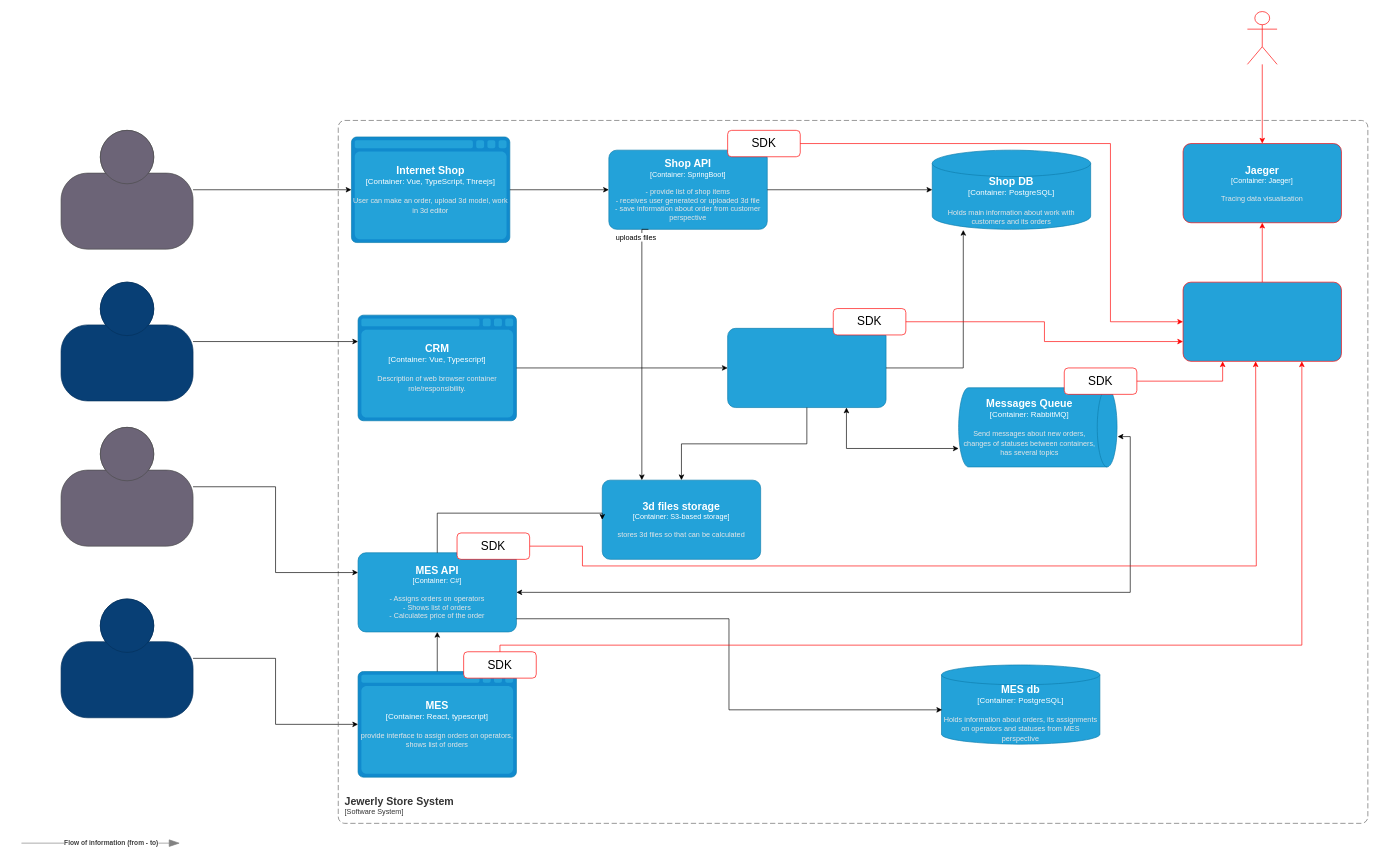
The diagram is 1379 pixels wide and 865 high, and some of its shapes have lost their labels. Here are the shapes that lost their labels. From the top down, the box of each, then its label:
(1247, 11, 1277, 64): Dev
(60, 130, 193, 249): Customer [Person] Description of external person.
(60, 281, 193, 401): Seller [Person] Operates with order, confirms manufacturing for the user
(1182, 281, 1341, 361): OpenTelemetry Collector [Container: OTEL] Collects data from multiple exporters.
(727, 328, 886, 408): CRM API [Container: SpringBoot] Description of container role/responsibility.
(60, 427, 193, 546): API user [Person] Description of external person.
(60, 598, 193, 718): Operator [Person] Takes order in work, manufactures jewerly
